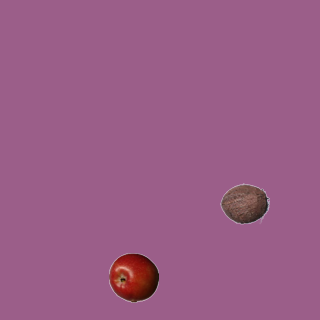Apple Braeburn: (108, 252, 158, 302)
Cocos: (219, 178, 269, 228)
